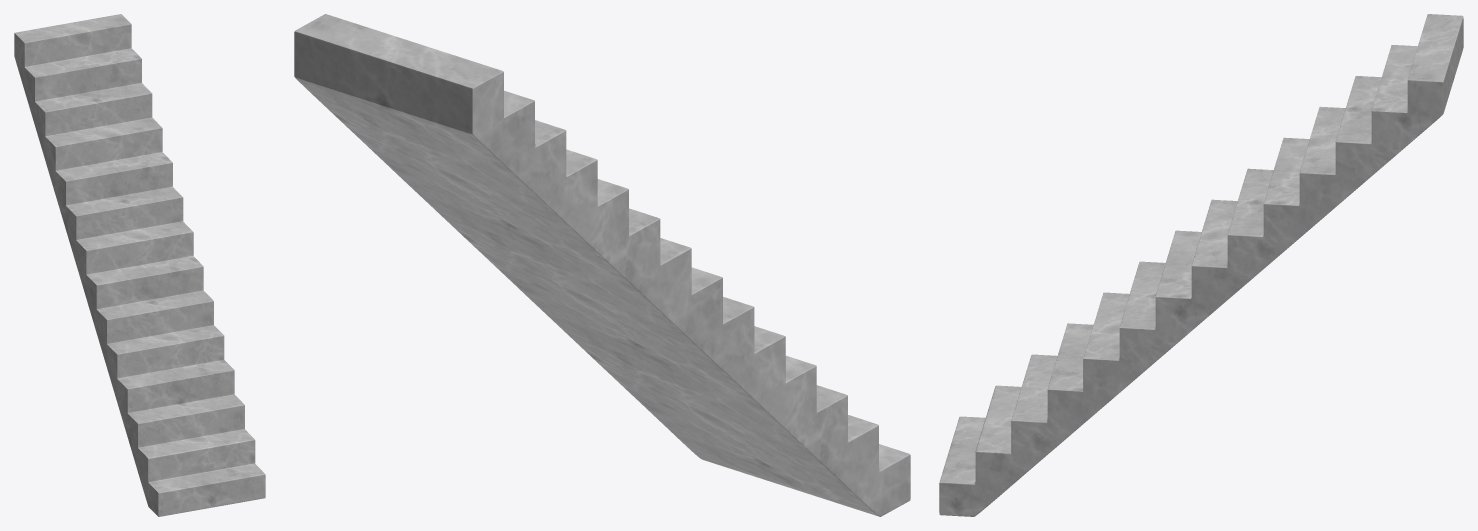
The model's file is stairs.fbx.
The picture shows the model from 3 angles, left to right: view 1: azimuth 30°, elevation 25°; view 2: azimuth 150°, elevation 25°; view 3: azimuth 270°, elevation 25°; orthographic projection. The views are drawn at different scales.
Visible parts, largest first — view 1: Stairs; view 2: Stairs; view 3: Stairs.
Part boxes in pixels (bbox=[...]): Stairs: bbox=[14, 14, 265, 516]; Stairs: bbox=[294, 14, 910, 516]; Stairs: bbox=[939, 14, 1463, 516].
Size of the model in its own units: 1150 by 2642 by 2723.
